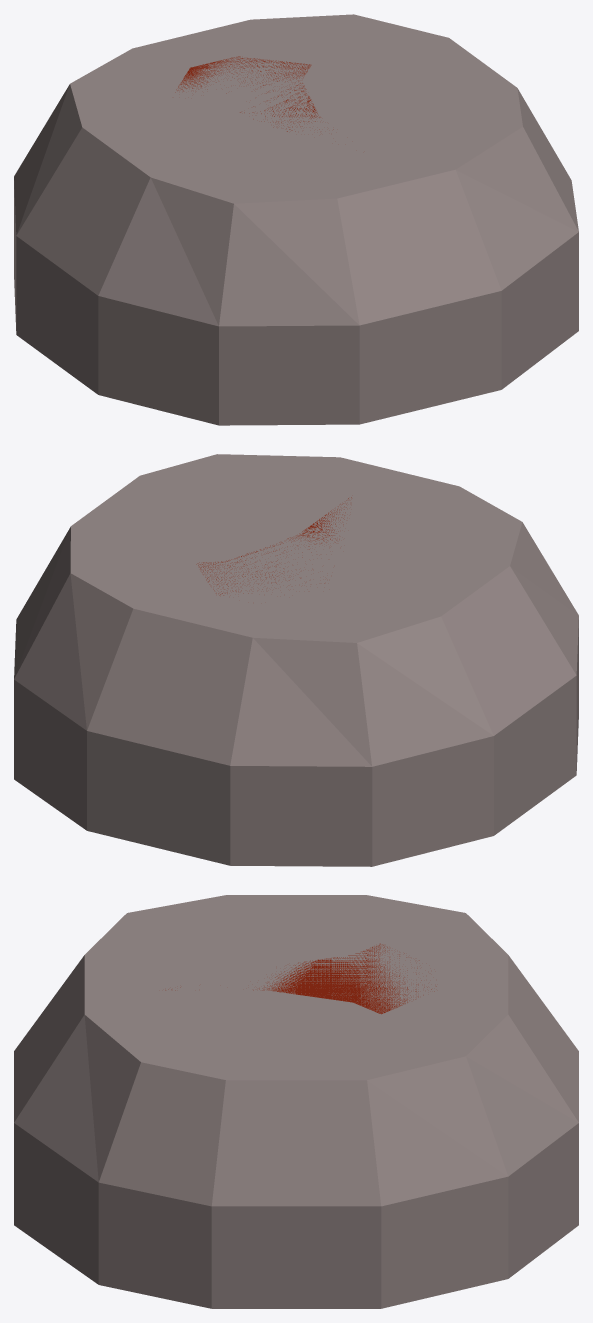
File: inv_blood_rune.obj
3 renders of one model, top to bottom at view 1: azimuth 30°, elevation 25°; view 2: azimuth 150°, elevation 25°; view 3: azimuth 270°, elevation 25°, orthographic. The views are drawn at different scales.
Size of the model in its own units: 0.3125 by 0.125 by 0.3125.
